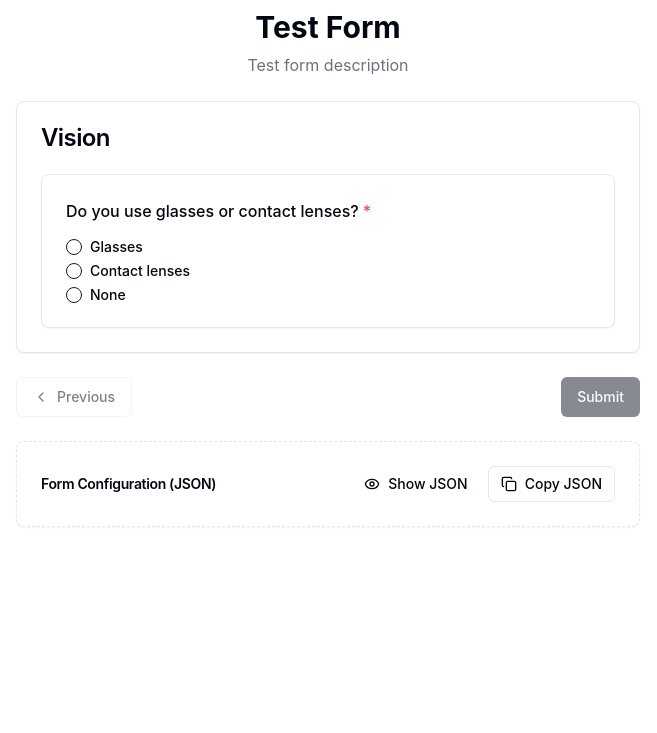
it: FormPreview Integration Tests › Conditional Logic › should support multiple values in equals conditions (OR logic)
The width and height of the screenshot is (657, 733).
Expected: the text "Please describe your eye care routine" is not shown
# Select "Glasses" - should show the conditional question
Click the 1st radio button named "Glasses".
click(74, 247)  # box 66,239 -> 82,255
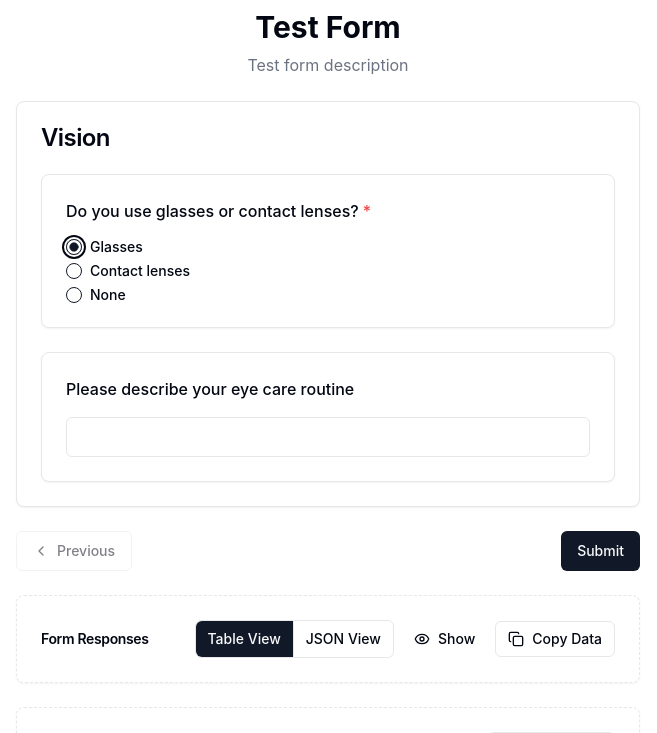
Now the text "Please describe your eye care routine" is shown, box 66,379 -> 354,399
# Switch to "Contact lenses" - should still show the conditional question
Click the 2nd radio button named "Contact lenses".
click(74, 271)  # box 66,263 -> 82,279
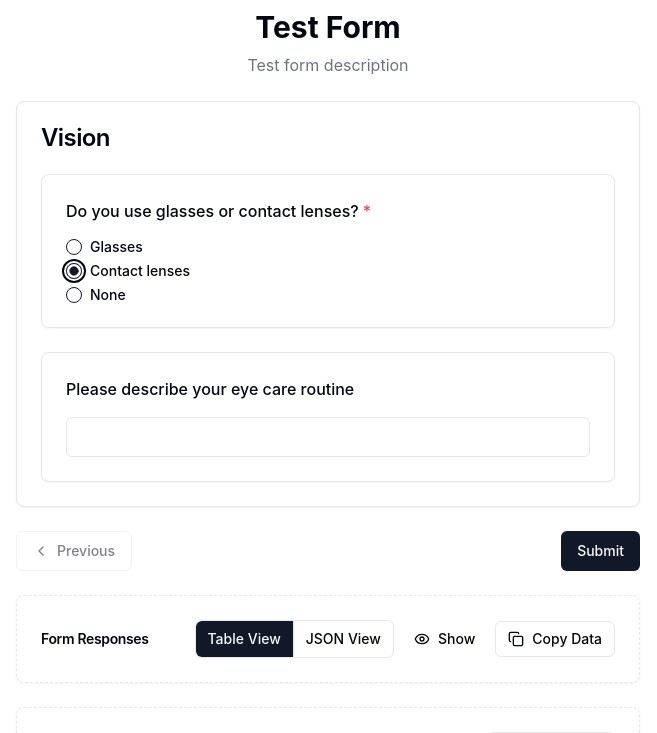
Now the text "Please describe your eye care routine" is shown, box 66,379 -> 354,399
# Switch to "None" - should hide the conditional question
Click the radio button named "None" next to "None".
click(74, 295)  # box 66,287 -> 82,303
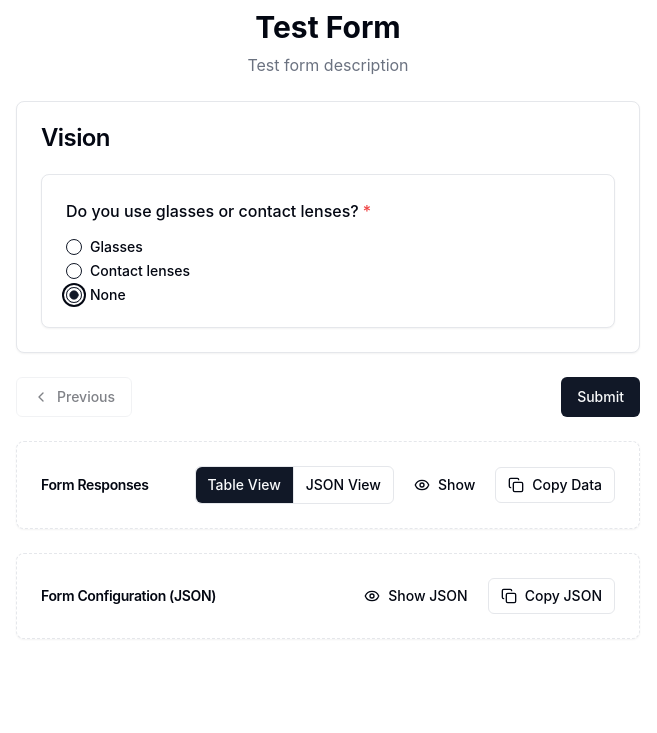
Now the text "Please describe your eye care routine" is gone
